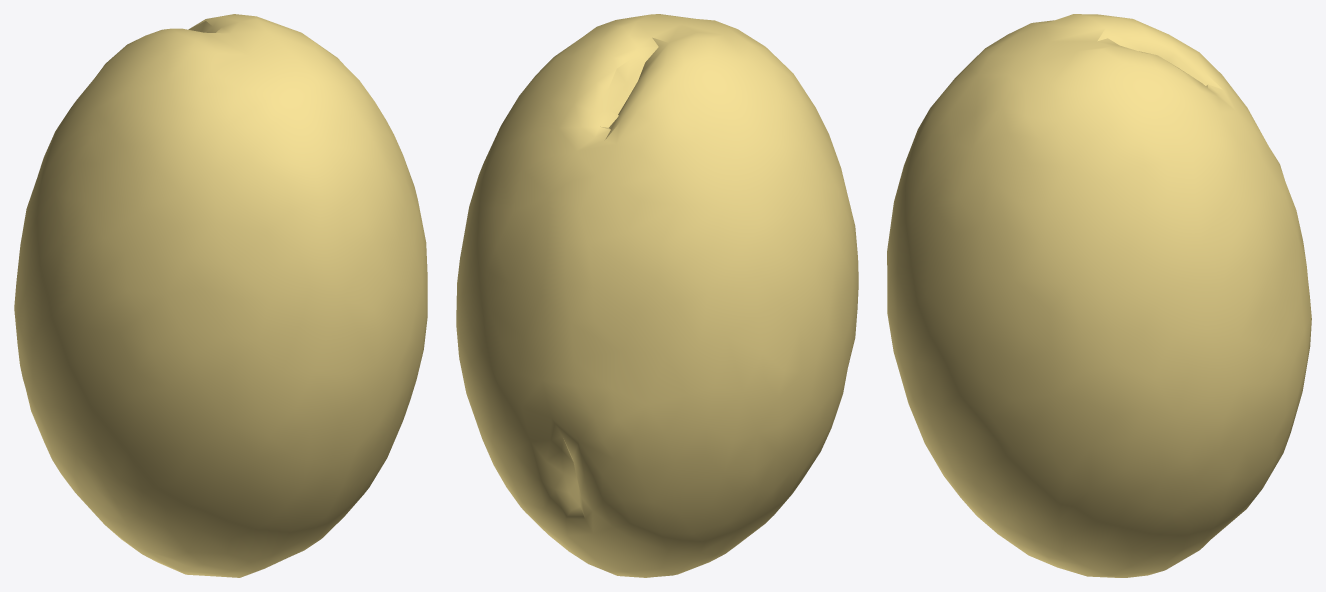
File: fma73483_mm3563m.glb
3 renders of one model, left to right at view 1: azimuth 30°, elevation 25°; view 2: azimuth 150°, elevation 25°; view 3: azimuth 270°, elevation 25°, orthographic. The views are drawn at different scales.
Parts seen in each view (by area): view 1: FMA73483_MM3563M; view 2: FMA73483_MM3563M; view 3: FMA73483_MM3563M.
Boxes of the visible parts, box(x1,y1,x2,y2) form: FMA73483_MM3563M: box(14, 14, 427, 577); FMA73483_MM3563M: box(456, 14, 858, 577); FMA73483_MM3563M: box(887, 14, 1311, 577).
Size of the model in its own units: 0.00133 by 0.00193 by 0.00139.
